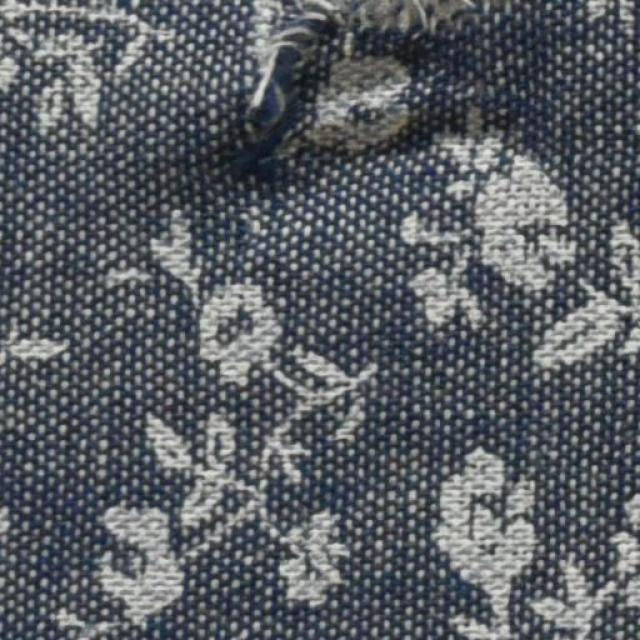Snag: (234, 0, 477, 160)
